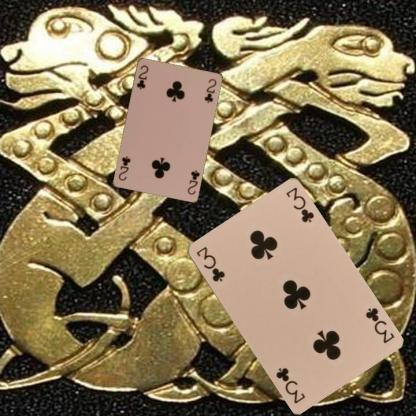2c: (134, 62, 150, 91), (184, 167, 200, 196)
3c: (362, 304, 396, 344), (193, 244, 226, 284)
